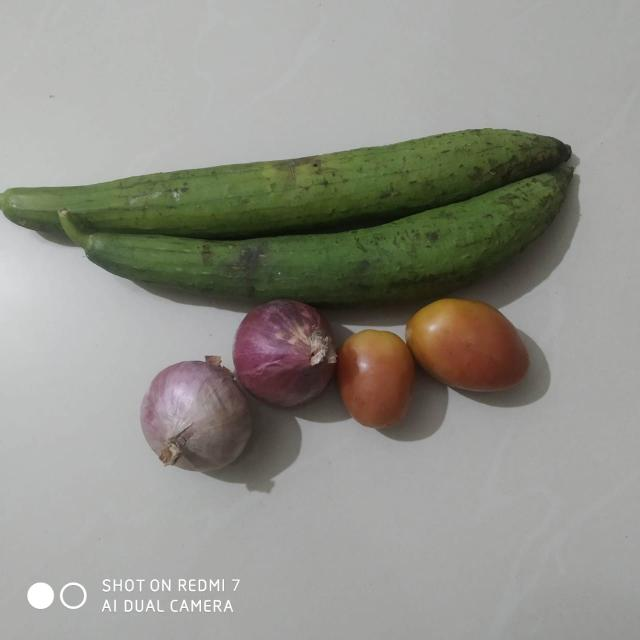Organik: (0, 123, 587, 306), (409, 295, 530, 397), (142, 362, 249, 473), (234, 302, 339, 413), (334, 330, 424, 432)
